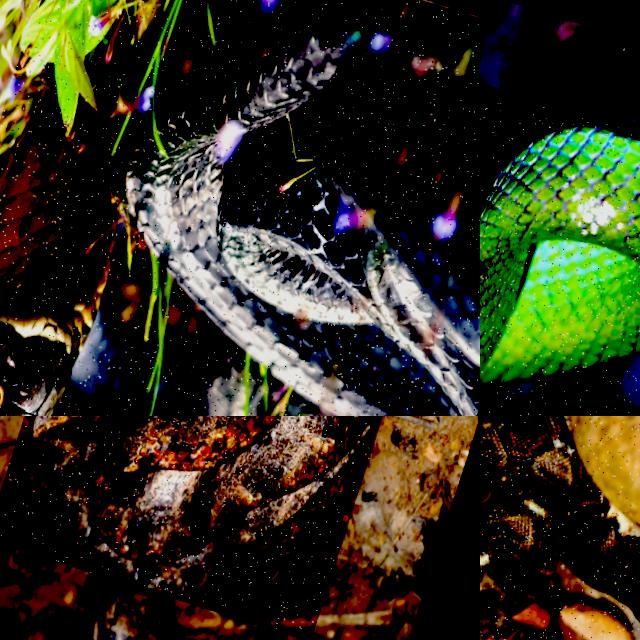Calloselasma rhodostoma: (34, 416, 378, 595)
Malayopython reticulatus: (480, 416, 639, 639)
Ophiophagus hannah: (117, 0, 479, 415)
Trimeresurus macrops: (480, 125, 639, 385)
snake: (117, 0, 479, 415), (34, 416, 378, 595), (480, 125, 639, 385), (480, 416, 639, 639)
